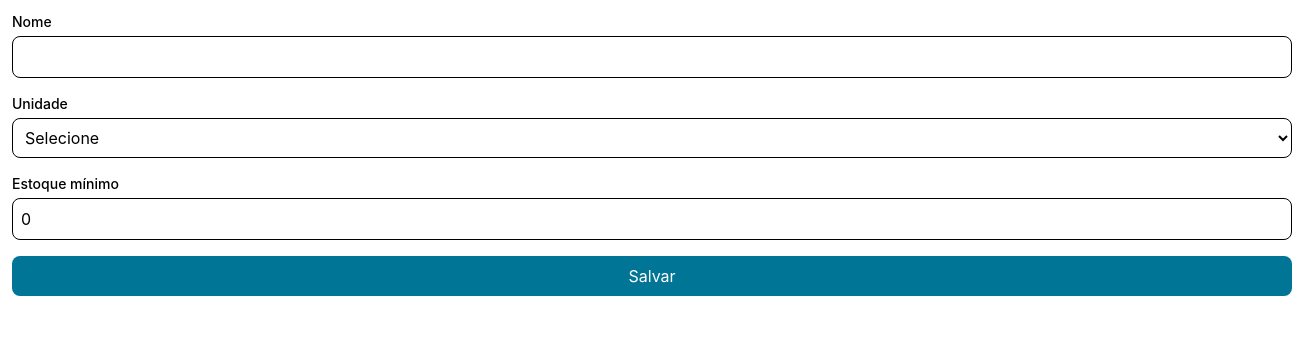
it: ItemForm › FE-06 exibe erro quando o nome está vazio
The image size is (1304, 350).
Click the button "Salvar" at (652, 276), box [12, 256, 1292, 296]
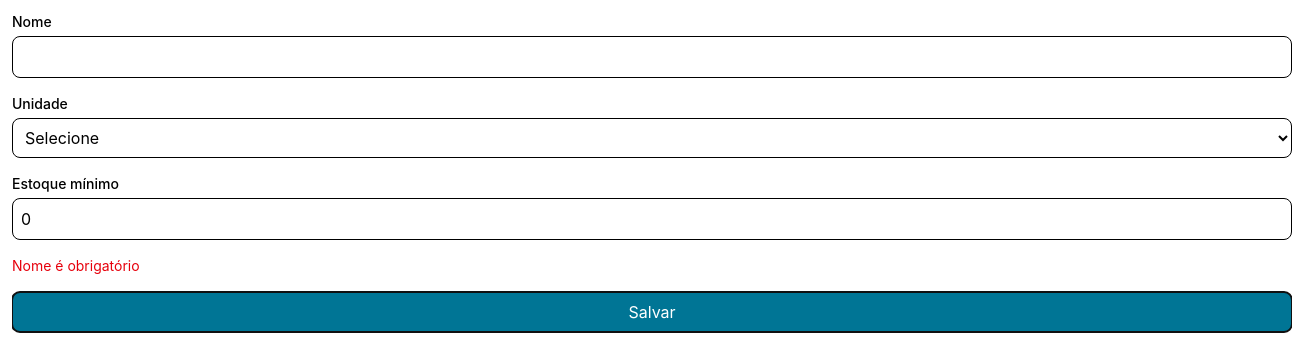
Check: the message reads "Nome é obrigatório", box [12, 257, 140, 274]
